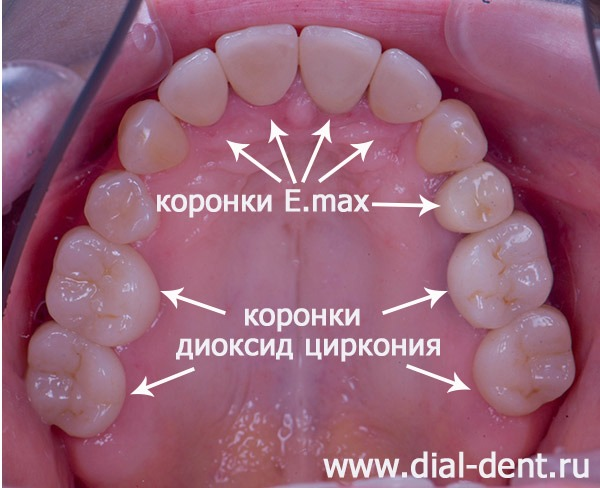UL1BC_healthy: (441, 163, 512, 233)
UL1M_healthy: (475, 306, 572, 414)
UL2BC_healthy: (451, 213, 551, 327)
ULCI_healthy: (299, 26, 381, 112)
ULC_healthy: (420, 99, 486, 172)
ULLI_healthy: (370, 49, 441, 123)
UR1BC_healthy: (85, 173, 156, 244)
UR1M_healthy: (28, 326, 123, 436)
UR2BC_healthy: (46, 227, 157, 346)
URCI_healthy: (215, 25, 297, 105)
URC_healthy: (119, 100, 186, 174)
URLI_healthy: (158, 49, 227, 125)
